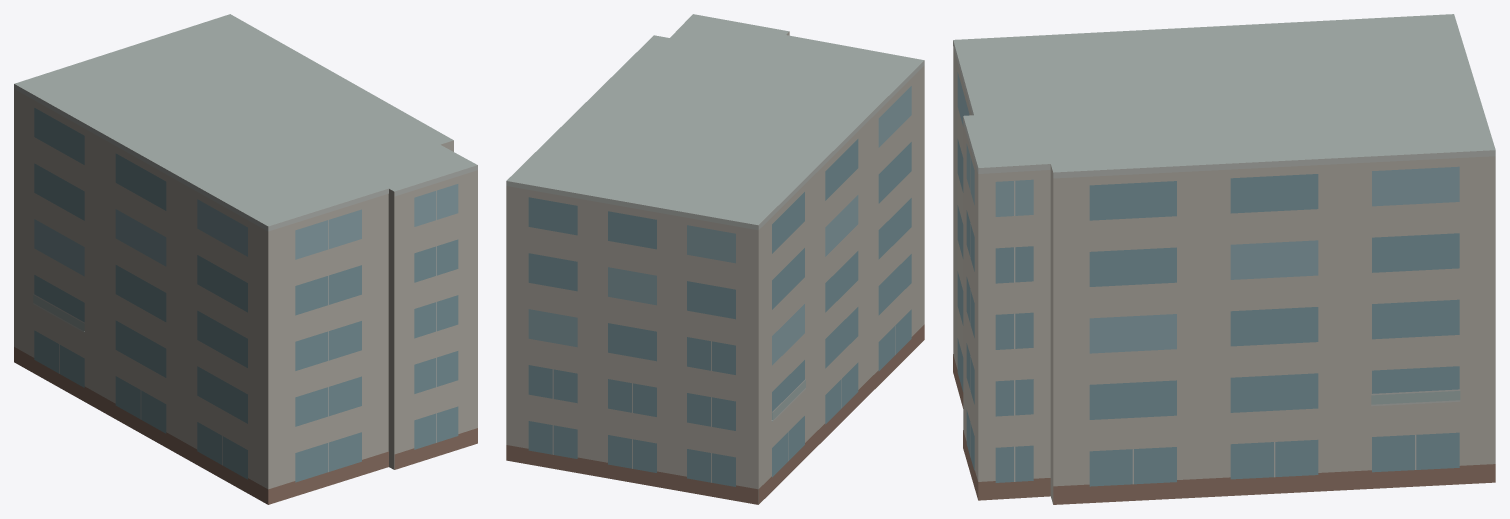
The model's file is survey-upis-32730996.glb.
3 renders of one model, left to right at view 1: azimuth 30°, elevation 25°; view 2: azimuth 150°, elevation 25°; view 3: azimuth 270°, elevation 25°, orthographic. The views are drawn at different scales.
Parts seen in each view (by area): view 1: survey-upis-32730996.tmp; view 2: survey-upis-32730996.tmp; view 3: survey-upis-32730996.tmp.
Part boxes in pixels (left/top/right/bottom): survey-upis-32730996.tmp: left=14, top=14, right=477, bottom=504; survey-upis-32730996.tmp: left=506, top=14, right=924, bottom=504; survey-upis-32730996.tmp: left=953, top=14, right=1495, bottom=504.
Bounding box in the file's own units: 13.87 × 13.55 × 20.06.
